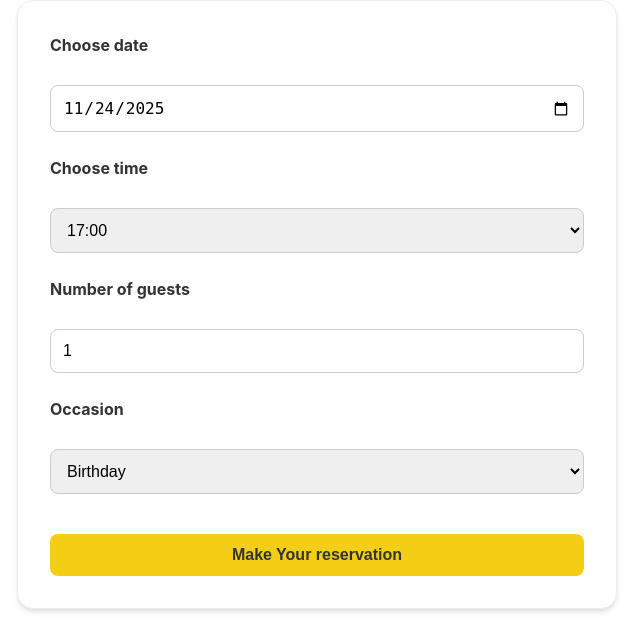
Test case: BookingForm › disable submit button if guests number is invalid
# Set invalid value (less than 1)
Type "0" into the number field labelled "Number of guests" at (317, 351), box x1=50 y1=329 x2=584 y2=373
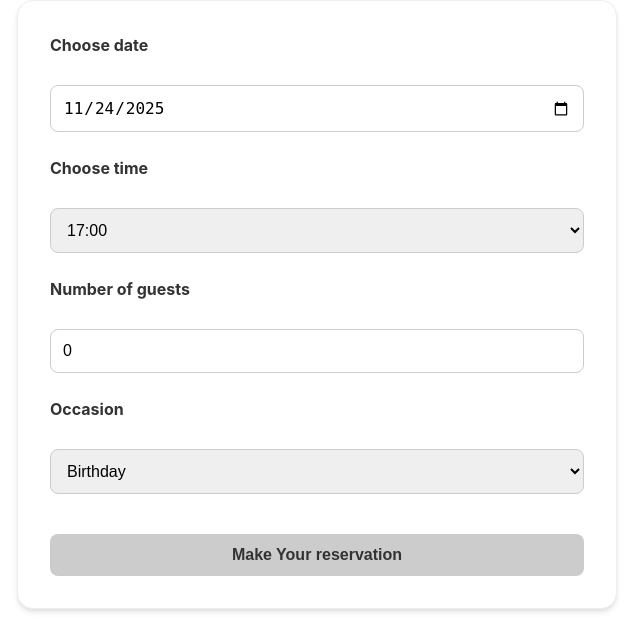
Result: the button "Make Your reservation" is disabled at x1=50 y1=534 x2=584 y2=576
# Set invalid value (more than 10)
Replace the text in the number field labelled "Number of guests" with "11" at (317, 351), box x1=50 y1=329 x2=584 y2=373
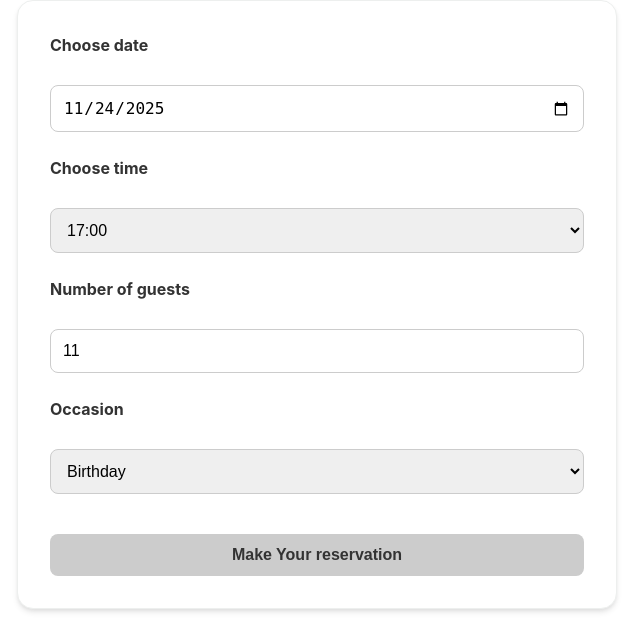
Result: the button "Make Your reservation" is disabled at x1=50 y1=534 x2=584 y2=576
# Set valid value
Replace the text in the number field labelled "Number of guests" with "5" at (317, 351), box x1=50 y1=329 x2=584 y2=373
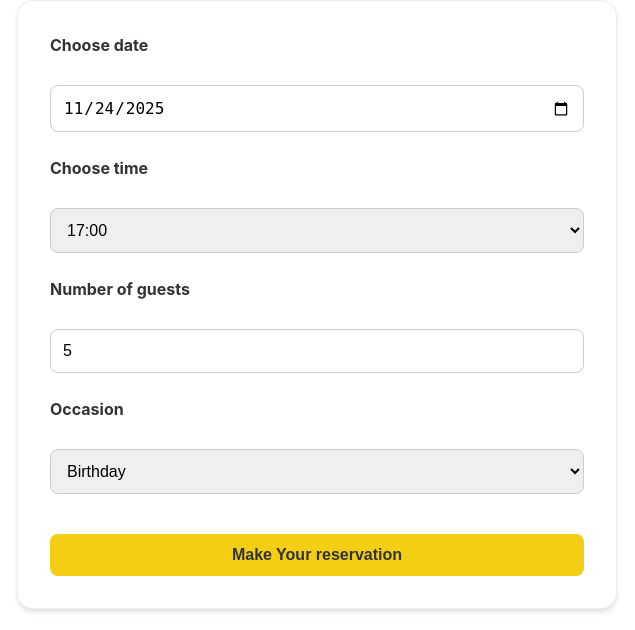
Result: the button "Make Your reservation" is enabled at x1=50 y1=534 x2=584 y2=576
